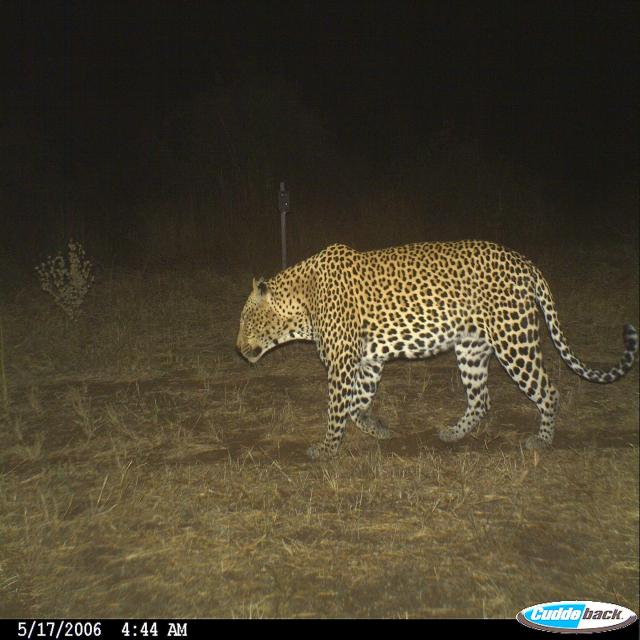Leopard: (235, 229, 640, 458)
